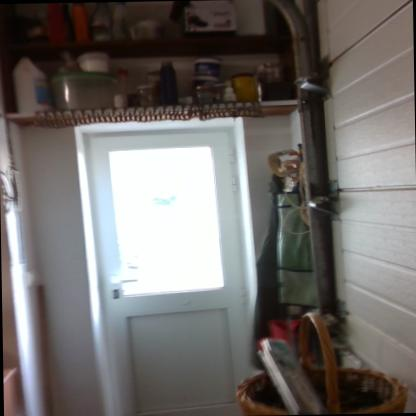closed: (79, 111, 253, 416)
